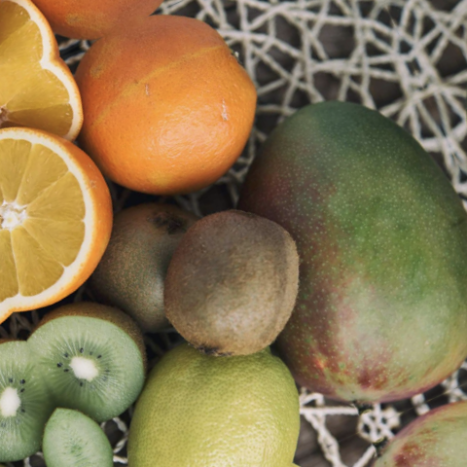kiwi: (179, 32, 467, 448), (135, 186, 335, 379)
orange: (50, 0, 292, 228)
